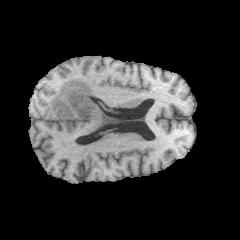glioma: (49, 78, 108, 135)
